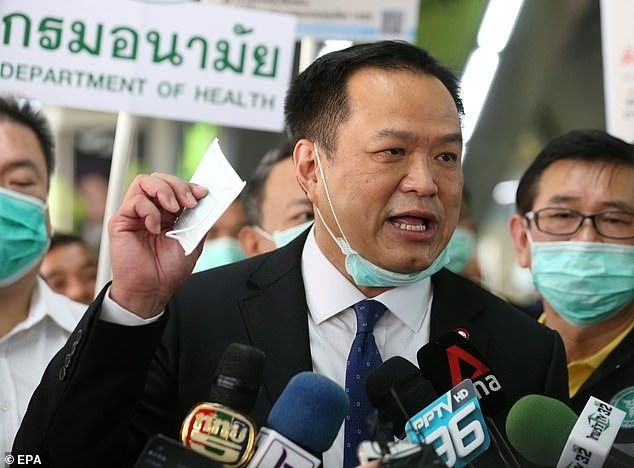face_no_mask: (42, 232, 94, 302)
face_with_mask: (284, 41, 466, 285), (506, 130, 634, 329), (0, 100, 55, 293), (241, 147, 316, 253)
